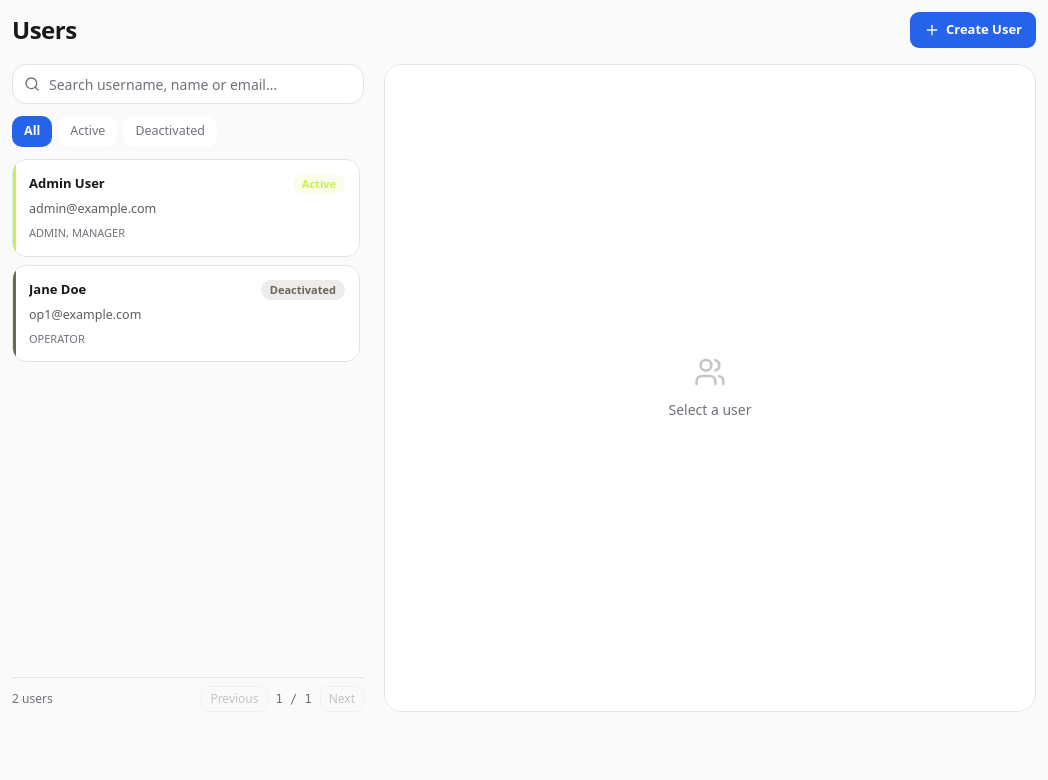
Test case: UsersPage › shows role pills in the pane after a row click
Step 1. Click the button with test id "user-row-uuid-1" → {"x": 67, "y": 183}, box [12,159,360,257]
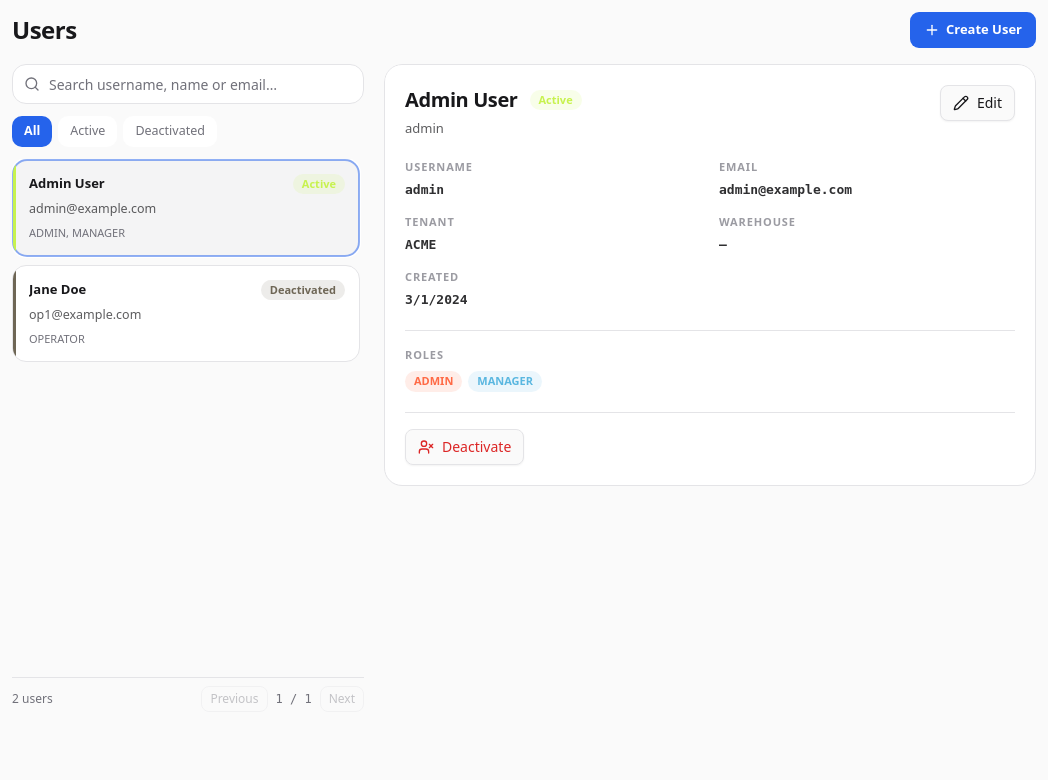
Check: the text "ADMIN" is shown, box [405,371,462,392]
Check: the text "MANAGER" is shown, box [468,371,542,392]
